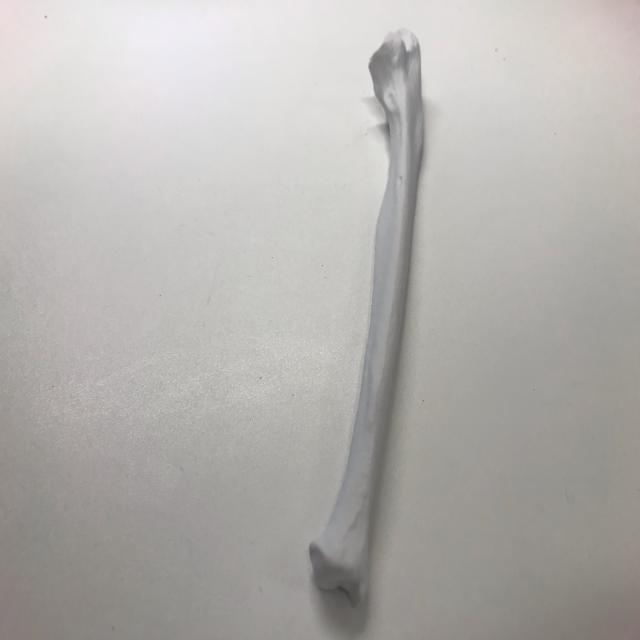bone: (303, 23, 443, 612)
